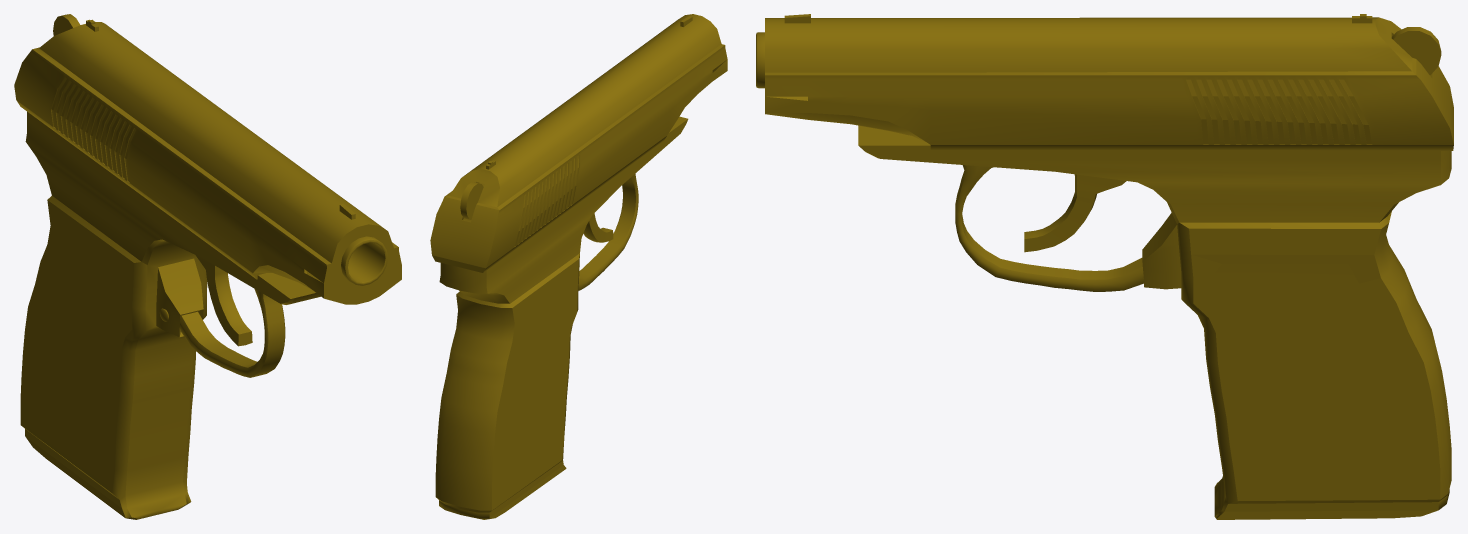
The model's file is Makarov High Poly.FBX.
The picture shows the model from 3 angles, left to right: view 1: azimuth 30°, elevation 25°; view 2: azimuth 150°, elevation 25°; view 3: azimuth 270°, elevation 25°; orthographic projection. The views are drawn at different scales.
Visible parts, largest first — view 1: High Poly Base, High Poly Barrel; view 2: High Poly Base, High Poly Barrel; view 3: High Poly Base, High Poly Barrel.
Part boxes in pixels (x1,y1,x2,y2): High Poly Base: [20, 111, 320, 519]; High Poly Barrel: [14, 14, 401, 304]; High Poly Base: [435, 116, 688, 519]; High Poly Barrel: [430, 14, 727, 272]; High Poly Base: [858, 125, 1451, 519]; High Poly Barrel: [756, 14, 1453, 150].
Size of the model in its own units: 2.05 by 11.19 by 14.36.
